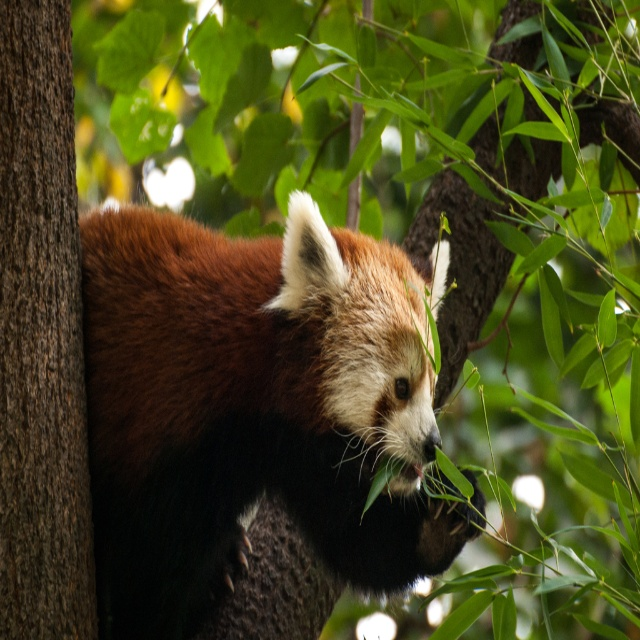Red panda: (78, 180, 492, 640)
